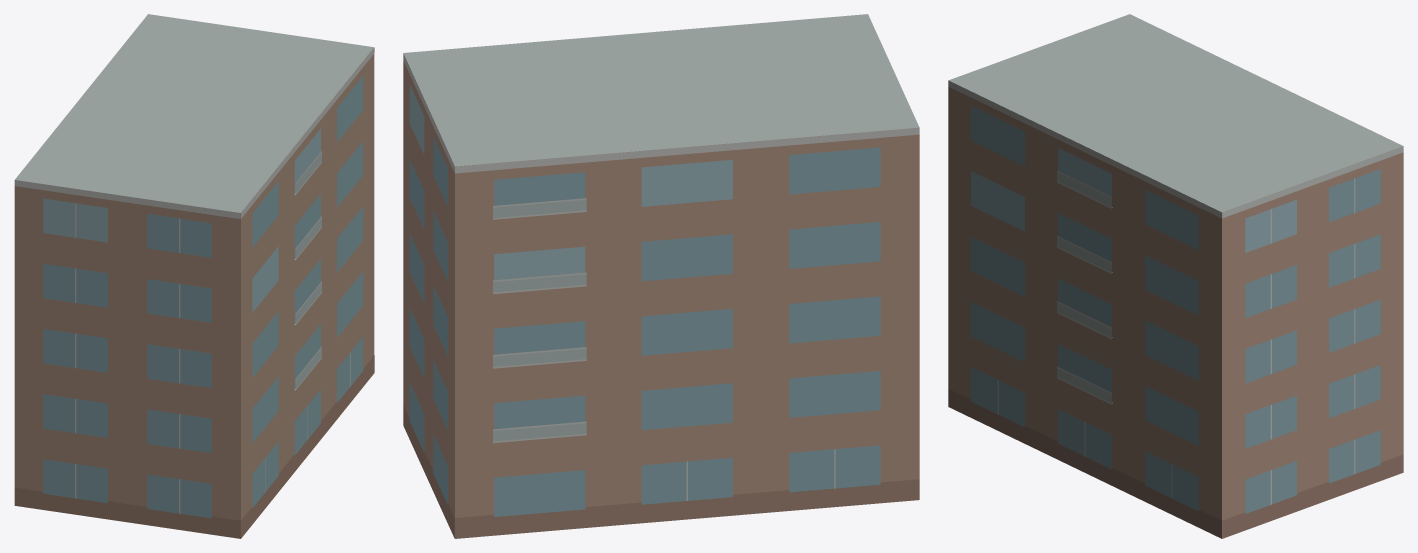
File: survey-upis-32629684.glb
The picture shows the model from 3 angles, left to right: view 1: azimuth 30°, elevation 25°; view 2: azimuth 150°, elevation 25°; view 3: azimuth 270°, elevation 25°; orthographic projection. The views are drawn at different scales.
Parts seen in each view (by area): view 1: survey-upis-32629684.tmp; view 2: survey-upis-32629684.tmp; view 3: survey-upis-32629684.tmp.
Part boxes in pixels (x1,y1,x2,y2): survey-upis-32629684.tmp: [14, 14, 374, 538]; survey-upis-32629684.tmp: [403, 14, 919, 538]; survey-upis-32629684.tmp: [948, 14, 1403, 538].
Bounding box in the file's own units: 16.95 × 13 × 16.44.
